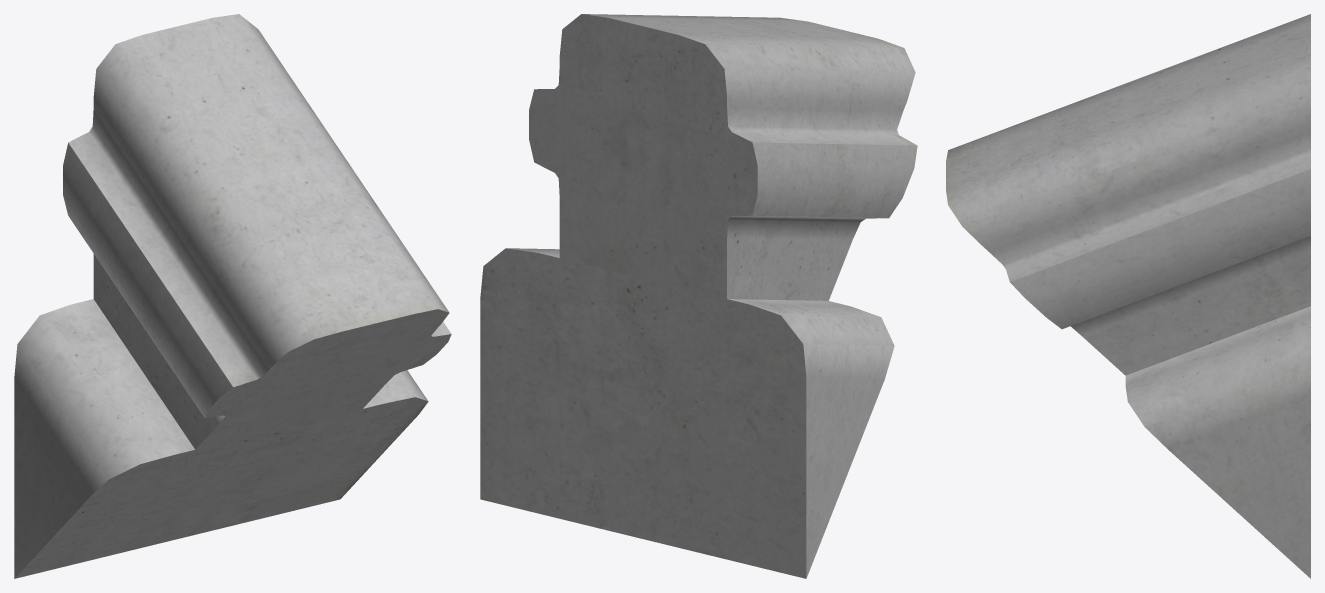
The model's file is ConcreteSafetyConnectorHeight.fbx.
3 renders of one model, left to right at view 1: azimuth 30°, elevation 25°; view 2: azimuth 150°, elevation 25°; view 3: azimuth 270°, elevation 25°, orthographic. The views are drawn at different scales.
Parts seen in each view (by area): view 1: ConcreteSafetyConnectorHeight; view 2: ConcreteSafetyConnectorHeight; view 3: ConcreteSafetyConnectorHeight.
Boxes of the visible parts, left/top/right/bottom form: ConcreteSafetyConnectorHeight: left=14, top=14, right=451, bottom=578; ConcreteSafetyConnectorHeight: left=480, top=14, right=917, bottom=578; ConcreteSafetyConnectorHeight: left=946, top=14, right=1310, bottom=578.
Size of what is drawn, in the model's own units: 64.91 by 97.53 by 68.97.
